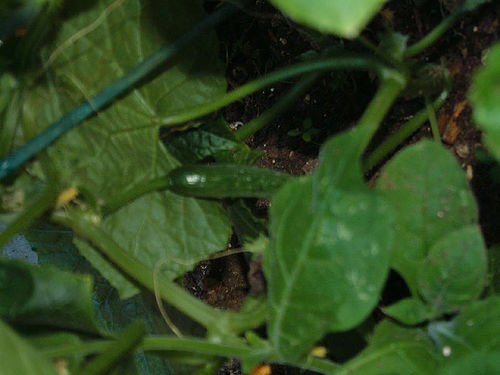cucumber: (165, 163, 297, 199)
